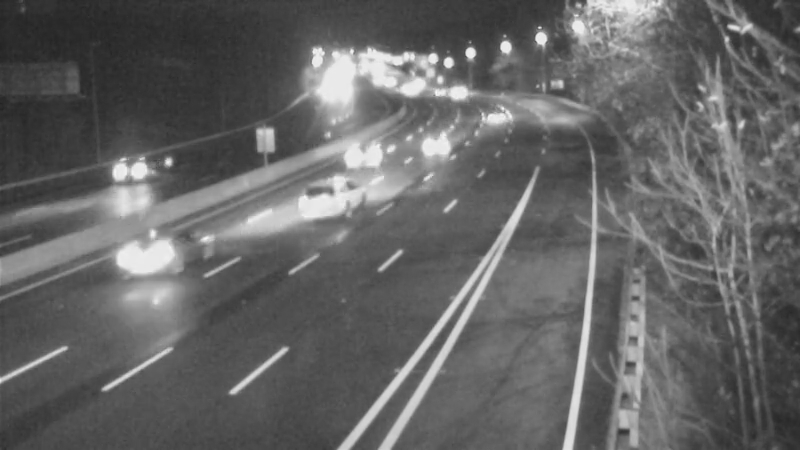vehicle: (335, 116, 415, 196), (290, 152, 370, 232), (109, 212, 189, 292), (89, 130, 169, 210), (437, 67, 487, 117), (472, 86, 522, 136), (413, 117, 463, 167)
